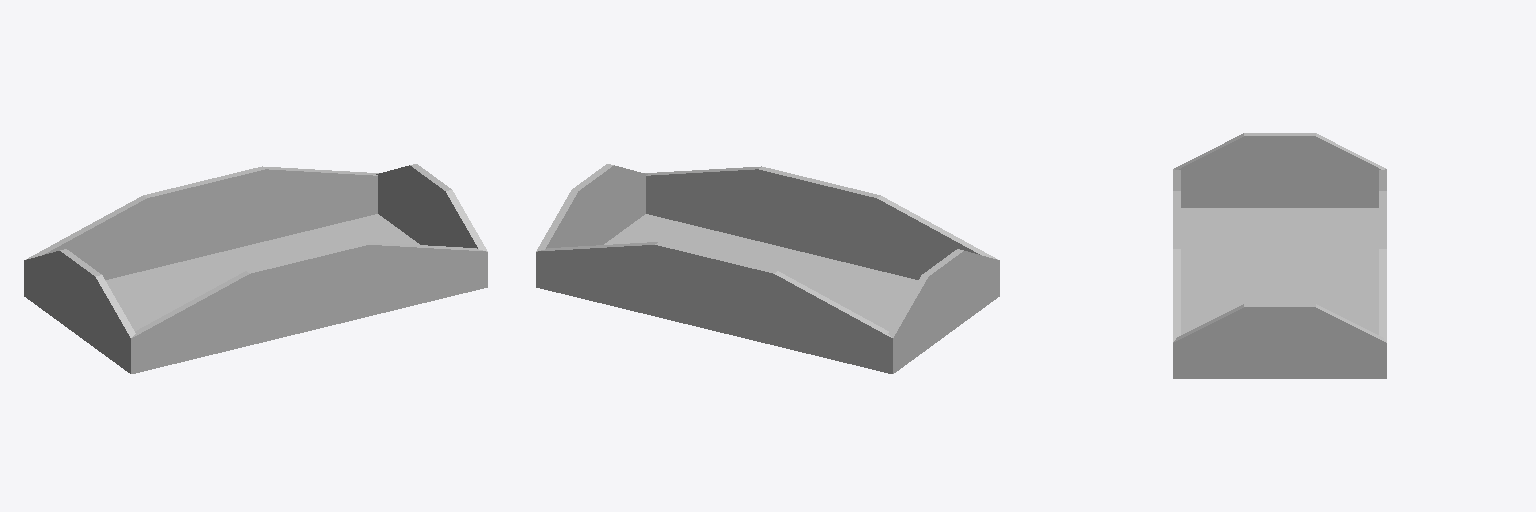
Rendered from top_cottoncandy.obj.
3 renders of one model, left to right at view 1: azimuth 30°, elevation 25°; view 2: azimuth 150°, elevation 25°; view 3: azimuth 270°, elevation 25°, orthographic.
Parts seen in each view (by area): view 1: Cube.006_0; view 2: Cube.006_0; view 3: Cube.006_0.
Part boxes in pixels (left/top/right/bottom): Cube.006_0: left=24, top=164, right=487, bottom=373; Cube.006_0: left=536, top=164, right=999, bottom=373; Cube.006_0: left=1173, top=133, right=1386, bottom=378.
Size of the model in its own units: 20.97 by 4.03 by 10.89.